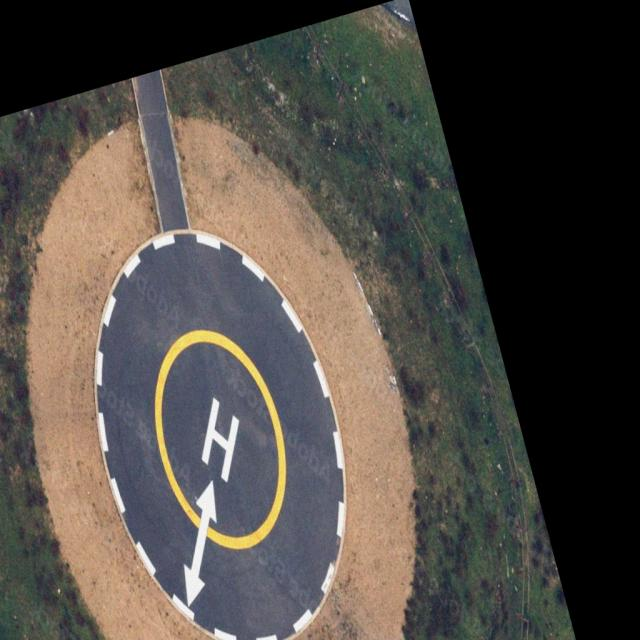helipad: (152, 325, 290, 549)
